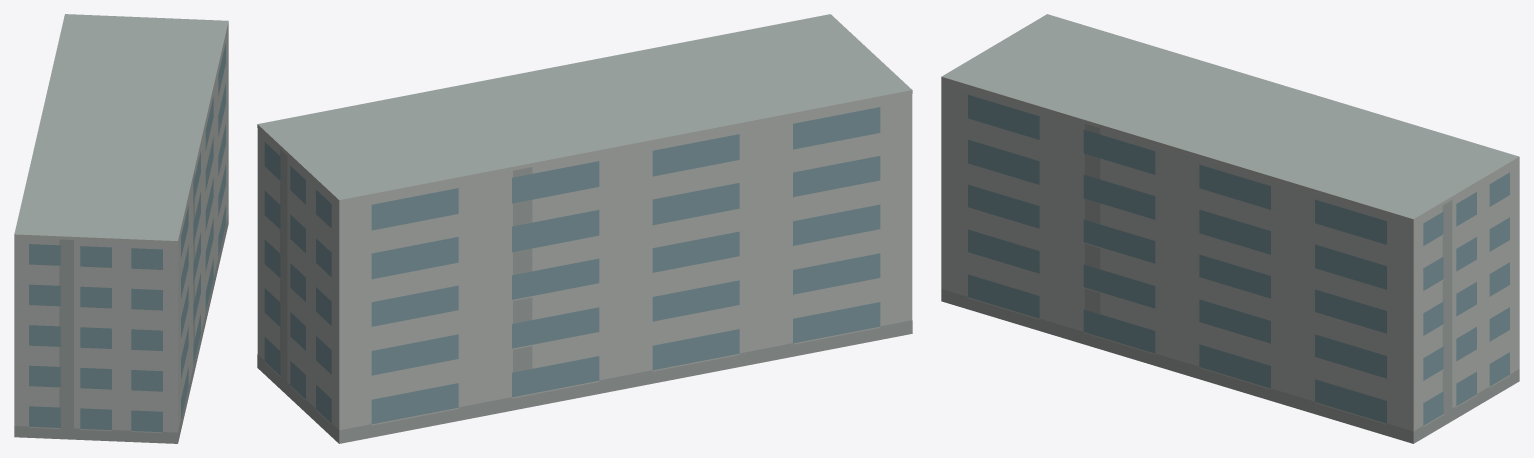
File: residential-31fa240b-c10c-4bff-adb5-d9c45ffaeef9.glb
3 views of the same model, side by side, from view 1: azimuth 30°, elevation 25°; view 2: azimuth 150°, elevation 25°; view 3: azimuth 270°, elevation 25° (orthographic). The views are drawn at different scales.
Visible parts, largest first — view 1: residential-31fa240b-c10c-4bff-adb5-d9c45ffaeef9.tmp; view 2: residential-31fa240b-c10c-4bff-adb5-d9c45ffaeef9.tmp; view 3: residential-31fa240b-c10c-4bff-adb5-d9c45ffaeef9.tmp.
Part boxes in pixels (x1,y1,x2,y2): residential-31fa240b-c10c-4bff-adb5-d9c45ffaeef9.tmp: (14,14,228,443); residential-31fa240b-c10c-4bff-adb5-d9c45ffaeef9.tmp: (257,14,912,443); residential-31fa240b-c10c-4bff-adb5-d9c45ffaeef9.tmp: (941,14,1519,443).
Size of the model in its own units: 29.89 by 15.25 by 35.58.
